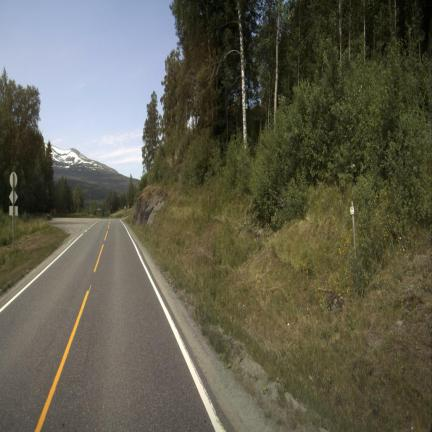Road: (0, 220, 222, 430)
